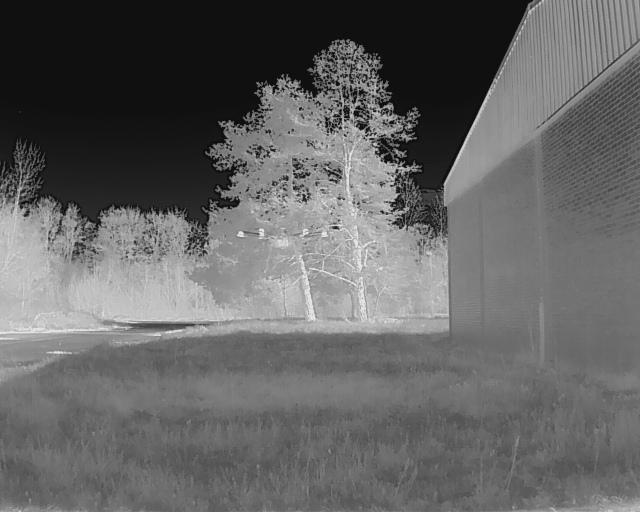drone: (237, 228, 325, 278)
